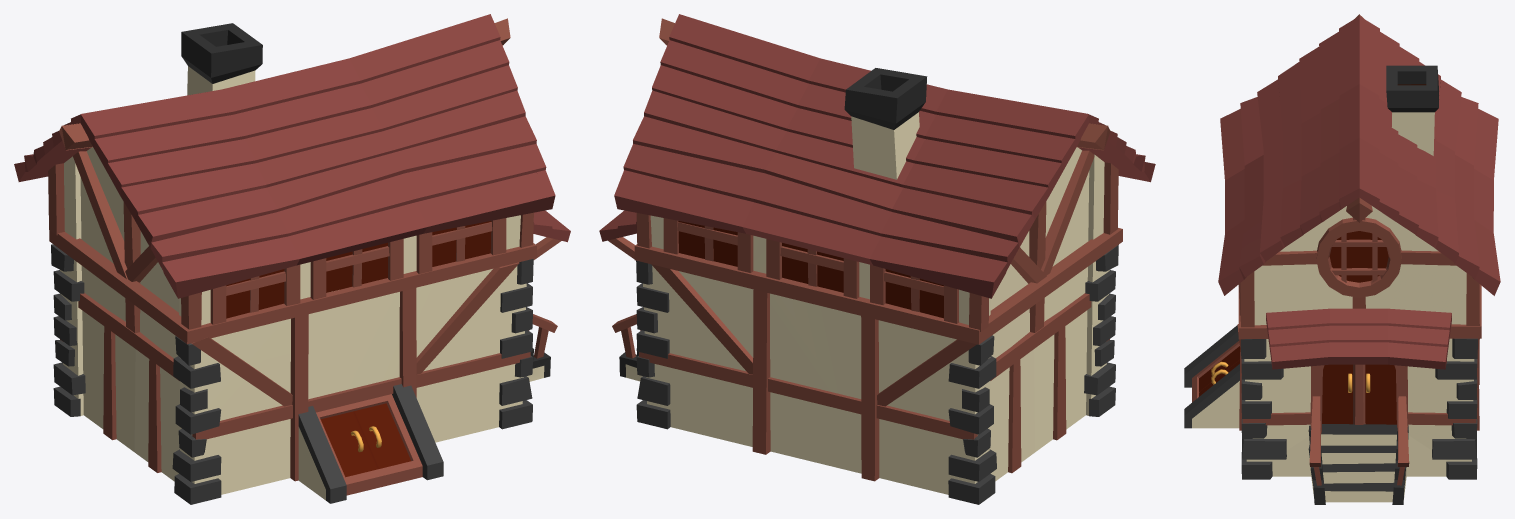
File: House-Medium02.fbx
3 views of the same model, side by side, from view 1: azimuth 30°, elevation 25°; view 2: azimuth 150°, elevation 25°; view 3: azimuth 270°, elevation 25° (orthographic). The views are drawn at different scales.
Visible parts, largest first — view 1: Cube.013, Cube.018, Cube.015, Cube.017, Cube.027, Cube.026, Cube.025, Cube.020, Cube.019, Cube.023; view 2: Cube.013, Cube.018, Cube.017, Cube.015, Cube.025, Cube.026, Cube.020, Cube.019, Cube.023; view 3: Cube.013, Cube.023, Cube.015, Cube.024, Cube.018, Cube.027, Cube.025, Cube.017, Cylinder, Cube.016, Cube.019.
Part boxes in pixels (x1,y1,x2,y2): Cube.013: (14, 14, 555, 494); Cube.018: (48, 151, 537, 472); Cube.015: (51, 244, 533, 504); Cube.017: (60, 237, 561, 481); Cube.027: (298, 384, 443, 503); Cube.026: (210, 218, 506, 324); Cube.025: (181, 23, 262, 95); Cube.020: (78, 293, 179, 380); Cube.019: (59, 18, 510, 150); Cube.023: (533, 210, 570, 242); Cube.013: (614, 14, 1155, 494); Cube.018: (634, 150, 1122, 473); Cube.017: (608, 237, 1109, 481); Cube.015: (636, 244, 1118, 504); Cube.025: (844, 68, 927, 179); Cube.026: (663, 218, 958, 323); Cube.020: (990, 293, 1091, 380); Cube.019: (659, 18, 1110, 150); Cube.023: (599, 210, 636, 241); Cube.013: (1218, 16, 1500, 476); Cube.023: (1266, 308, 1451, 369); Cube.015: (1241, 338, 1477, 479); Cube.024: (1308, 424, 1408, 504); Cube.018: (1238, 217, 1481, 424); Cube.027: (1184, 325, 1240, 428); Cube.025: (1386, 65, 1438, 155); Cube.017: (1237, 324, 1479, 485); Cylinder: (1316, 217, 1401, 297); Cube.016: (1310, 365, 1408, 433); Cube.019: (1346, 14, 1372, 222).
Size of the model in its own units: 139 by 104 by 94.5.
